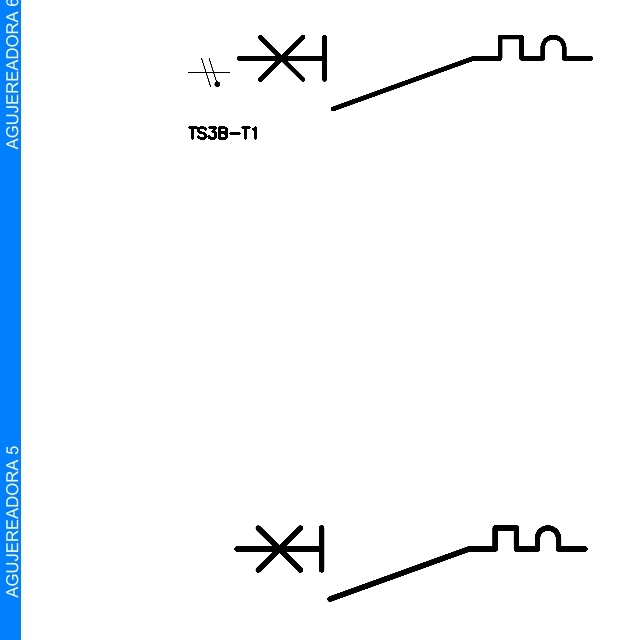interruptor_termomagnetico: (229, 28, 599, 118), (228, 519, 594, 608)
